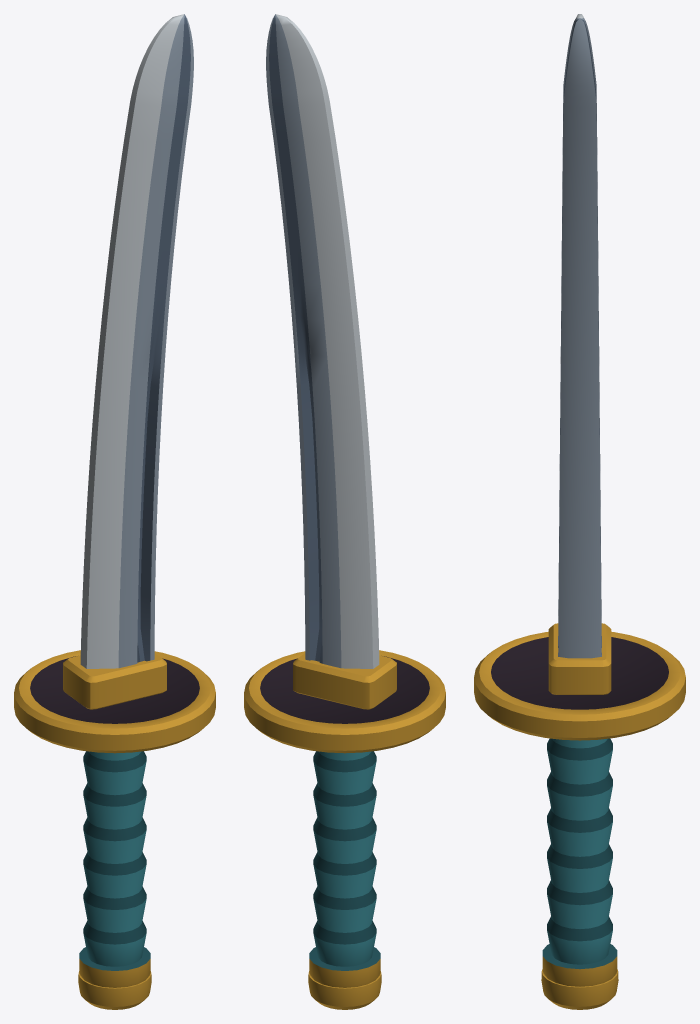
File: Katana_09.glb
3 renders of one model, left to right at view 1: azimuth 30°, elevation 25°; view 2: azimuth 150°, elevation 25°; view 3: azimuth 270°, elevation 25°, orthographic. The views are drawn at different scales.
Visible parts, largest first — view 1: Katana_09; view 2: Katana_09; view 3: Katana_09.
Part boxes in pixels (bbox=[...]): Katana_09: bbox=[14, 14, 215, 1009]; Katana_09: bbox=[244, 14, 445, 1009]; Katana_09: bbox=[474, 14, 685, 1009].
Size of the model in its own units: 1.27 by 6.69 by 1.27.
